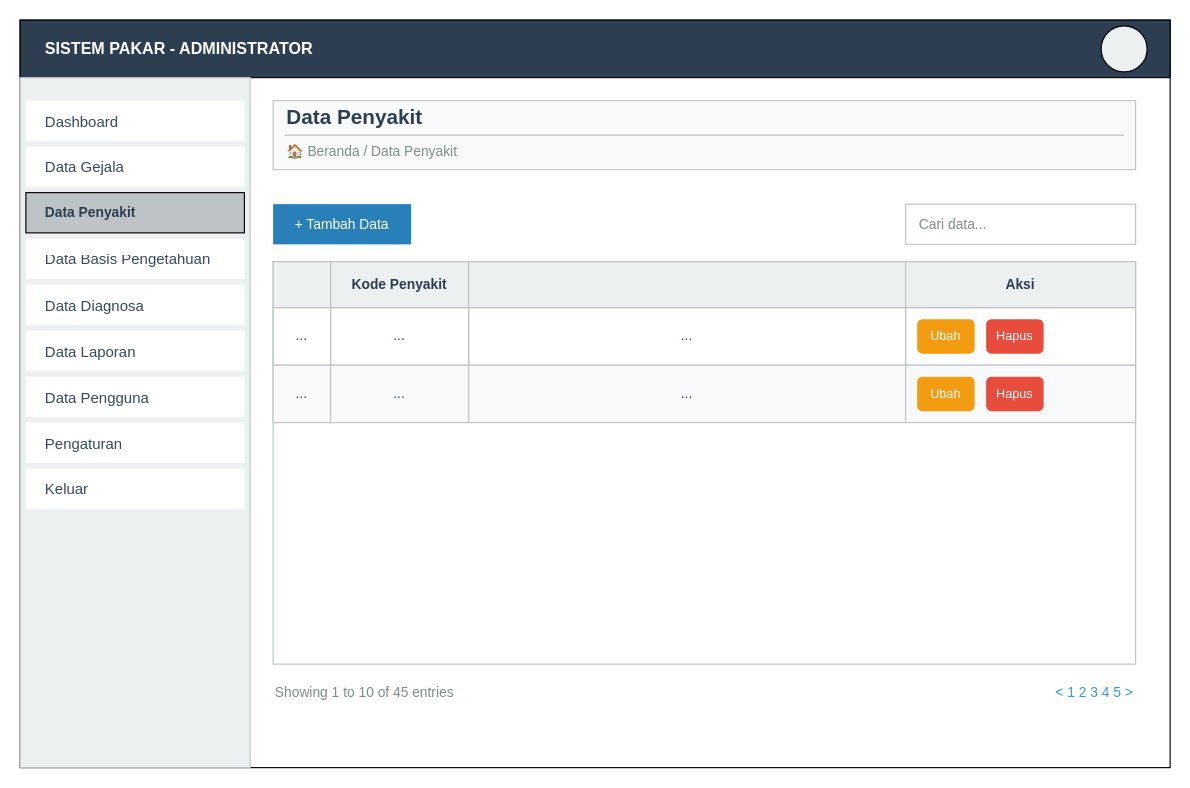
Image size: 1190x788. Some labels were removed from this diagram. Here are the shapes that lost their labels. From the top down, the centre of each, then its label:
point (1123, 48): Admin
point (301, 284): NO
point (686, 284): Nama Penyakit
